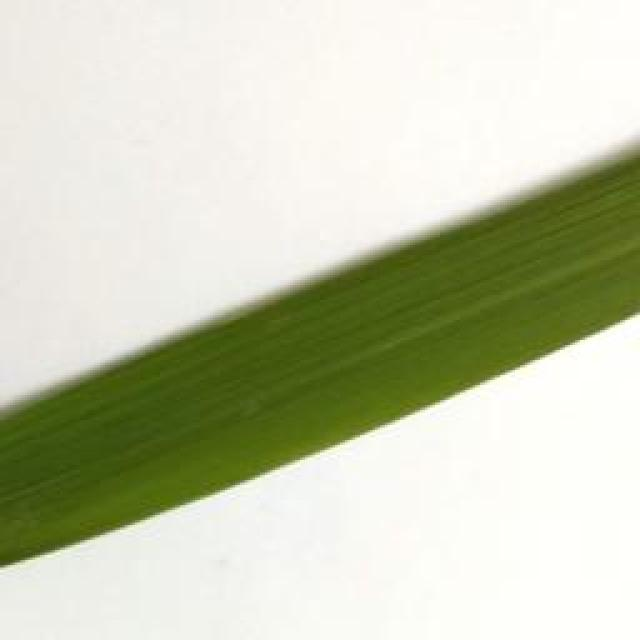Healthy-Plant: (0, 147, 640, 573)
